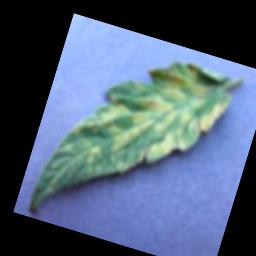Leaf_Mold: (58, 33, 239, 206)
